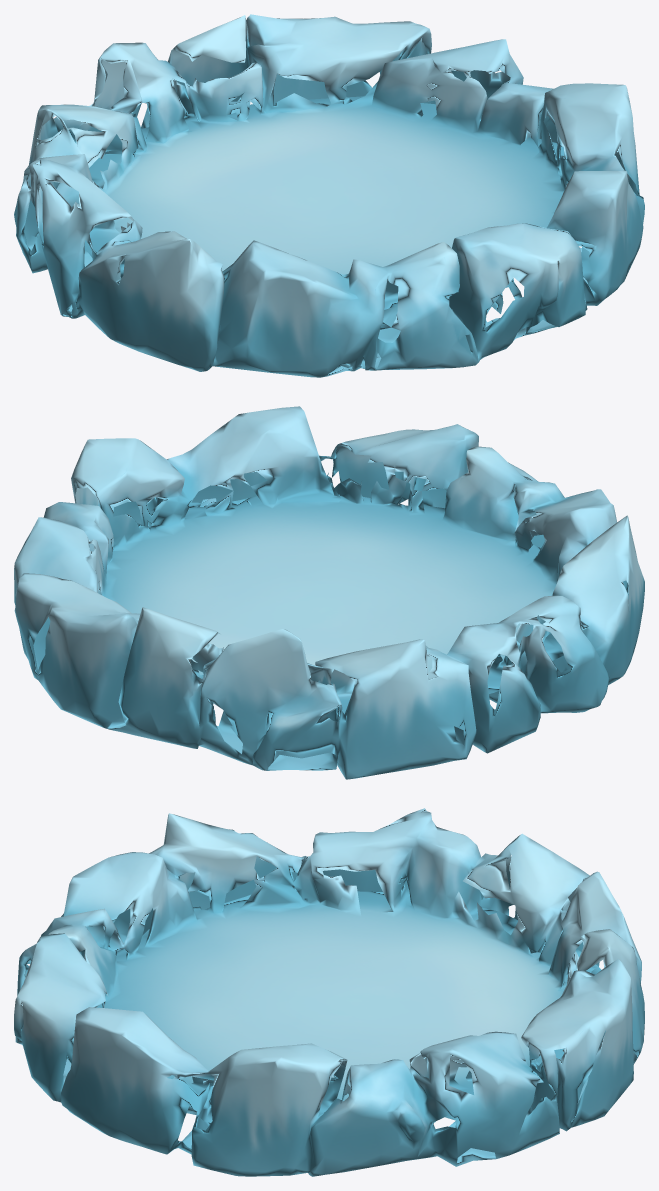
Rendered from led-polynya.glb.
The picture shows the model from 3 angles, top to bottom: view 1: azimuth 30°, elevation 25°; view 2: azimuth 150°, elevation 25°; view 3: azimuth 270°, elevation 25°; orthographic projection. The views are drawn at different scales.
Parts seen in each view (by area): view 1: geometry_0; view 2: geometry_0; view 3: geometry_0.
Part boxes in pixels (x1,y1,x2,y2): geometry_0: (14, 14, 644, 377); geometry_0: (14, 406, 644, 779); geometry_0: (14, 808, 644, 1176).
Size of the model in its own units: 0.9992 by 0.2446 by 0.9869.
Materials: 1 (1 with a texture image).
